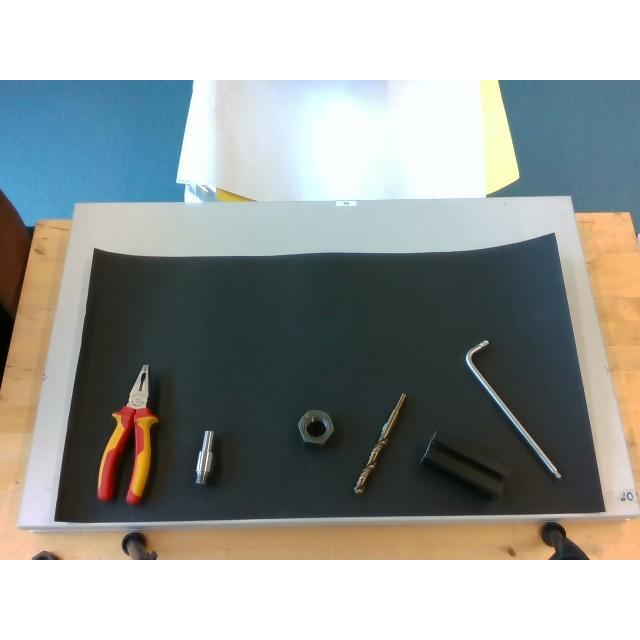AllenKey: (465, 340, 561, 478)
Axis2: (195, 430, 213, 484)
Drill: (354, 394, 406, 494)
M30: (298, 410, 334, 444)
S40_40_B: (422, 432, 511, 500)
